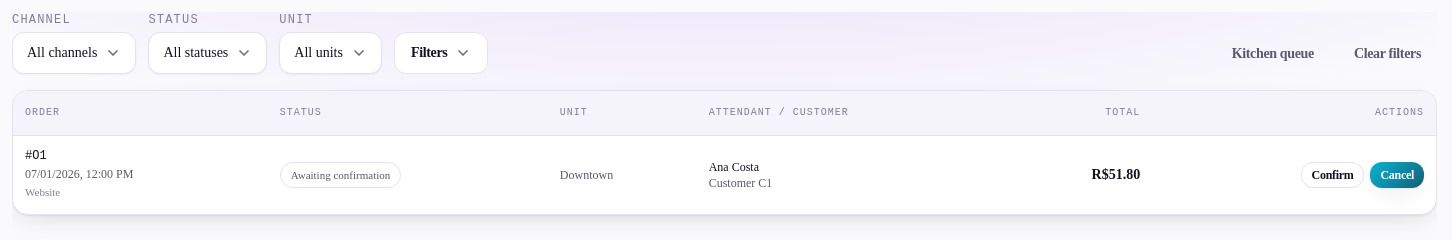
Scenario: OrderBoard › shows the advance-status action and moves the order forward on click
Click the button "Confirm" at (1333, 175), box x1=1301 y1=162 x2=1364 y2=188
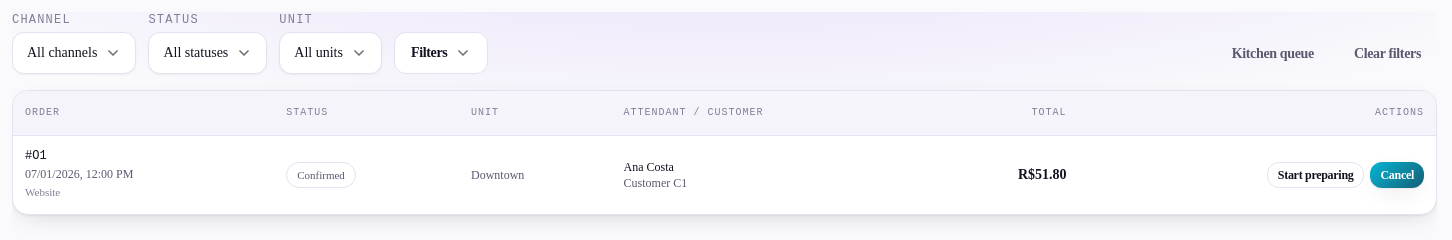
Result: the text "Confirmed" is shown at x1=286 y1=162 x2=356 y2=188
